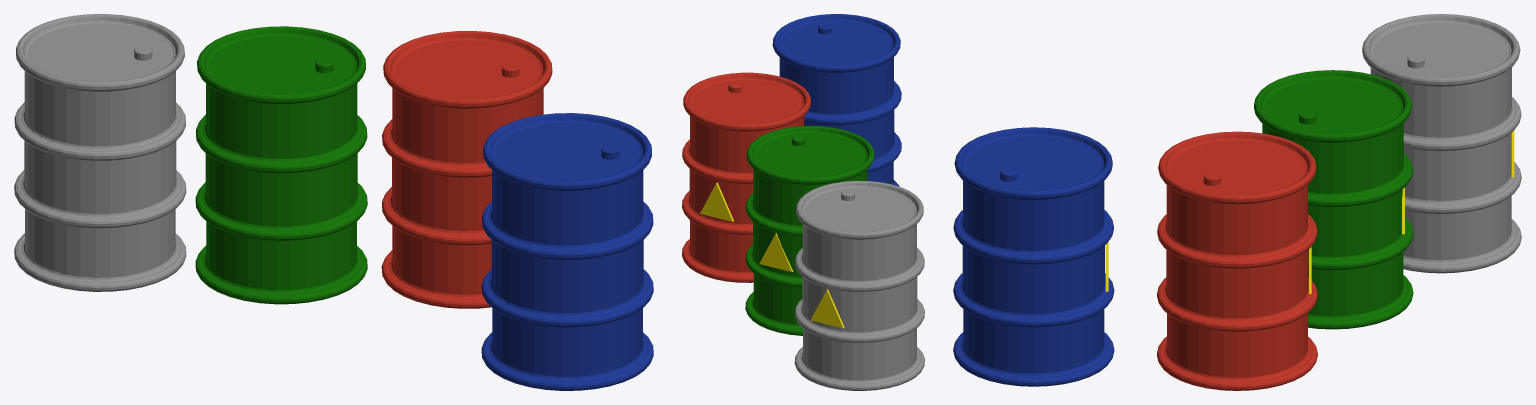
The model's file is Barrels.fbx.
3 views of the same model, side by side, from view 1: azimuth 30°, elevation 25°; view 2: azimuth 150°, elevation 25°; view 3: azimuth 270°, elevation 25° (orthographic). The views are drawn at different scales.
Parts seen in each view (by area): view 1: barrel.006, barrel.007, barrel.004, barrel.005; view 2: barrel.007, barrel.005, barrel.006, barrel.004; view 3: barrel.004, barrel.005, barrel.007, barrel.006.
Boxes of the visible parts, x1,y1,x2,y2 form: barrel.006: (195, 26, 367, 304); barrel.007: (14, 14, 186, 291); barrel.004: (481, 113, 653, 390); barrel.005: (381, 31, 552, 308); barrel.007: (794, 180, 924, 390); barrel.005: (682, 72, 810, 282); barrel.006: (745, 126, 874, 335); barrel.004: (772, 14, 901, 186); barrel.004: (953, 127, 1114, 386); barrel.005: (1157, 131, 1317, 390); barrel.007: (1362, 14, 1521, 273); barrel.006: (1254, 70, 1413, 329).
Size of the model in its own units: 275 by 135 by 356.
